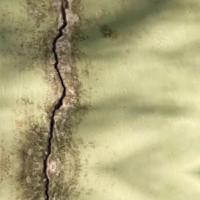crack: (24, 2, 98, 199)
